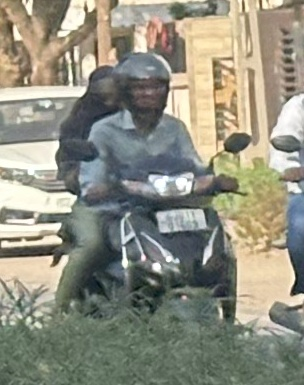BikeWithRider: (41, 45, 258, 347)
NoHelmet: (108, 48, 179, 120), (81, 59, 128, 116)
